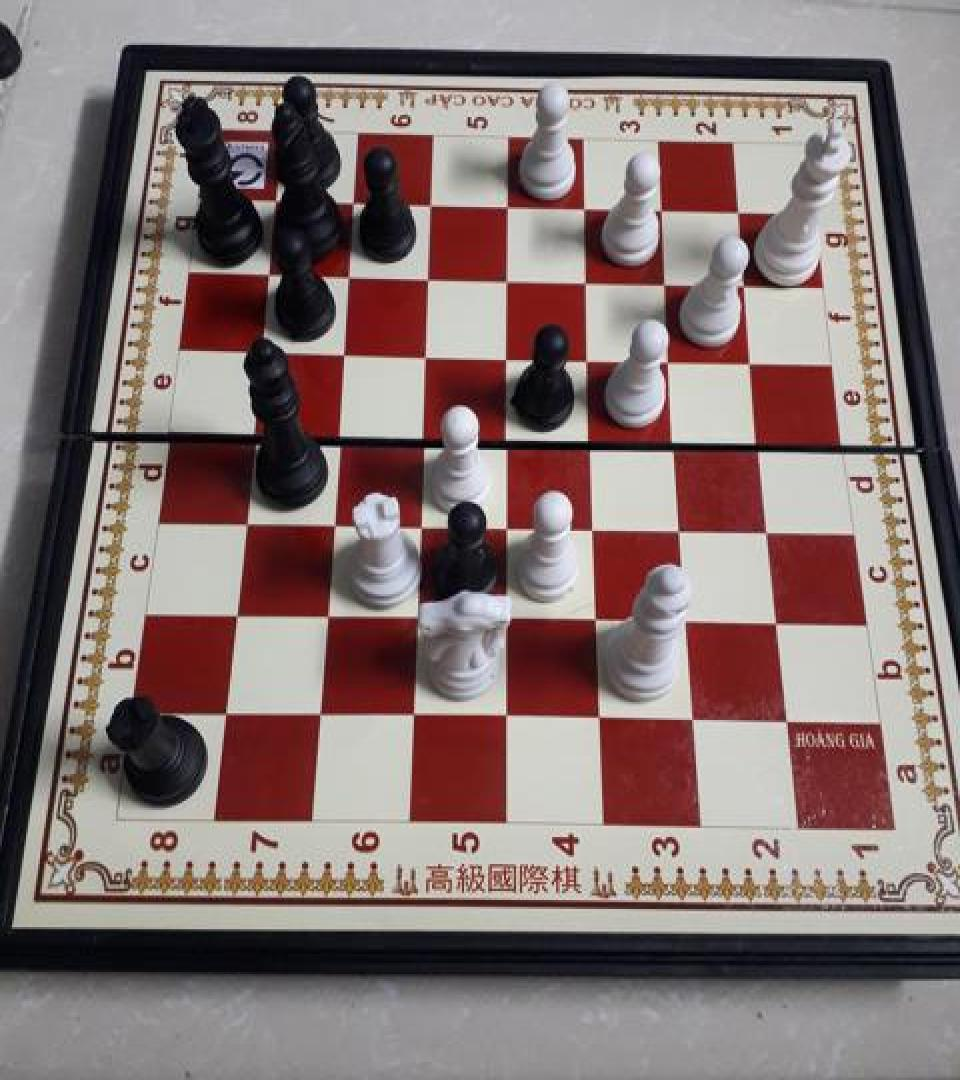xcorner: (400, 696, 432, 733), (494, 697, 526, 734), (212, 694, 244, 730), (306, 695, 338, 731), (587, 700, 619, 736), (680, 701, 712, 737), (773, 702, 805, 738), (222, 595, 254, 631), (313, 596, 345, 632), (403, 598, 435, 634), (494, 600, 526, 636), (584, 601, 616, 637), (674, 603, 706, 639), (764, 604, 796, 640), (231, 503, 263, 539), (319, 504, 351, 540), (407, 506, 439, 542), (494, 508, 526, 544), (582, 508, 614, 544), (669, 511, 701, 547), (756, 512, 788, 548), (239, 416, 271, 452), (325, 418, 357, 454), (410, 420, 442, 456), (495, 421, 527, 457), (579, 423, 611, 459), (664, 424, 696, 460), (748, 425, 780, 461), (247, 334, 279, 370), (330, 336, 362, 372), (413, 338, 445, 374), (495, 340, 527, 376), (577, 341, 609, 377), (659, 343, 691, 379), (741, 344, 773, 380), (255, 258, 287, 294), (335, 260, 367, 296), (415, 261, 447, 297), (495, 263, 527, 299), (575, 264, 607, 300), (734, 268, 766, 304), (340, 187, 372, 223), (418, 189, 450, 225), (496, 190, 528, 226), (728, 196, 760, 232), (655, 267, 687, 302), (262, 186, 294, 221), (573, 193, 605, 228), (650, 195, 682, 230)
